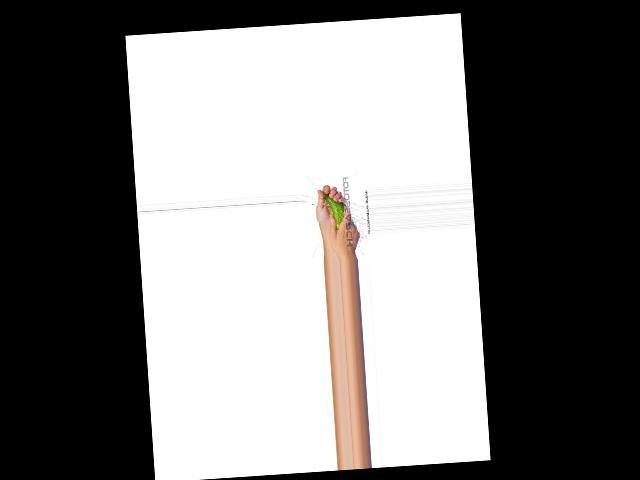cucumber: (323, 191, 346, 232)
